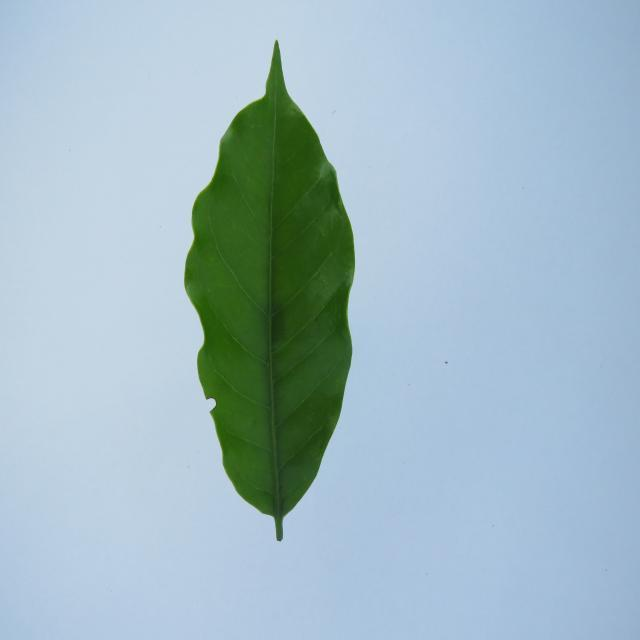DeficienciaNutricional-Calcio: (185, 42, 355, 540)
